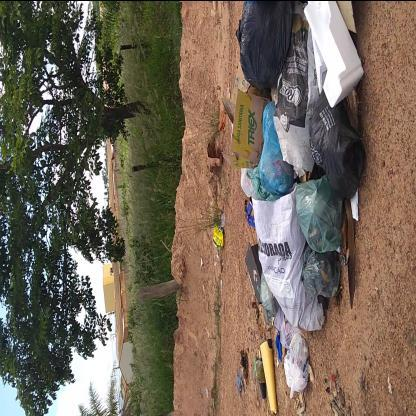lixo: (231, 0, 362, 398)
